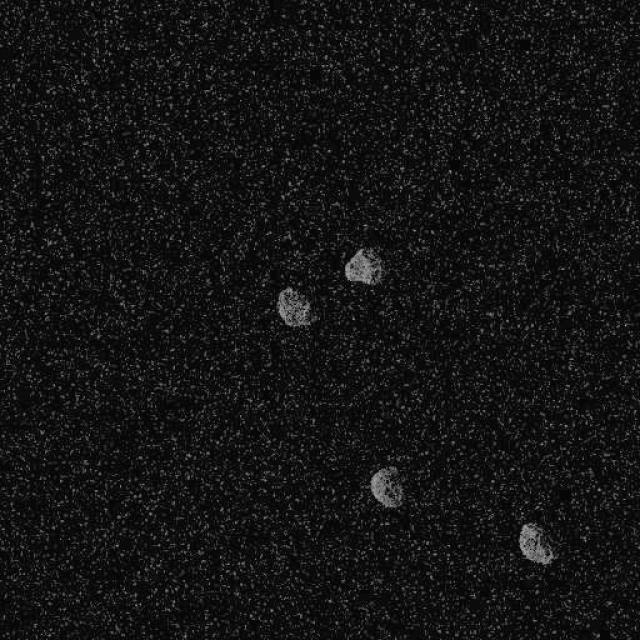D2: (342, 245, 383, 285), (275, 285, 314, 327), (518, 521, 554, 565), (368, 465, 404, 509)
